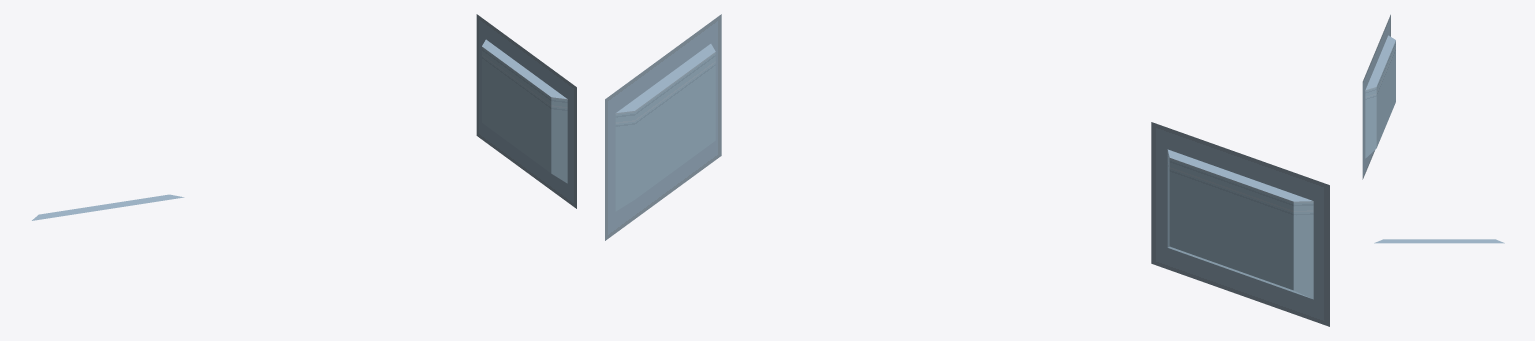
The model's file is kd_stage_135c43_4_129.glb.
3 views of the same model, side by side, from view 1: azimuth 30°, elevation 25°; view 2: azimuth 150°, elevation 25°; view 3: azimuth 270°, elevation 25° (orthographic). The views are drawn at different scales.
Parts seen in each view (by area): view 1: kd_stage_135c43_4_129; view 2: kd_stage_135c43_4_129; view 3: kd_stage_135c43_4_129.
Part boxes in pixels (x1,y1,x2,y2): kd_stage_135c43_4_129: [32, 14, 576, 220]; kd_stage_135c43_4_129: [605, 14, 1329, 326]; kd_stage_135c43_4_129: [1362, 14, 1504, 243].
Bounding box in the file's own units: 1.58 × 0.34 × 0.5065.
Materials: 1 (1 with a texture image).
